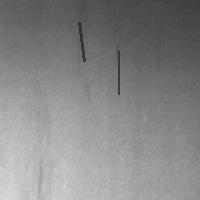inclusion: (65, 2, 95, 65), (30, 155, 48, 199), (77, 20, 86, 63), (116, 49, 120, 96)
